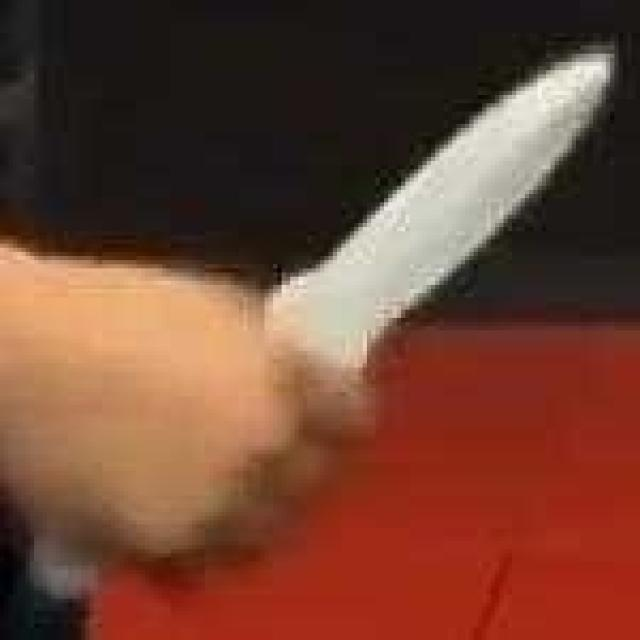Knife: (53, 38, 615, 600)
